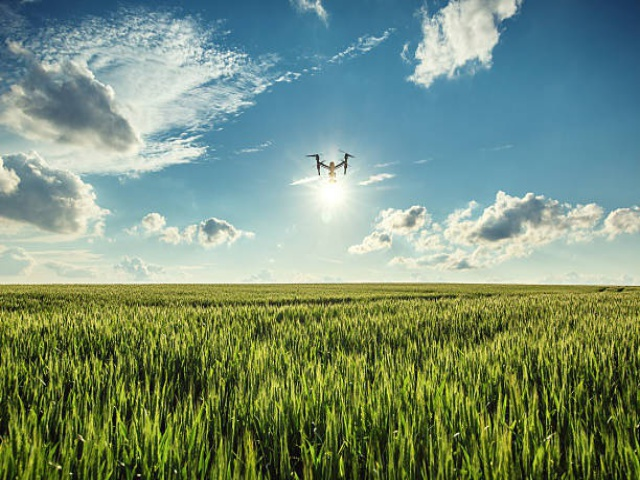drone: (303, 143, 358, 186)
